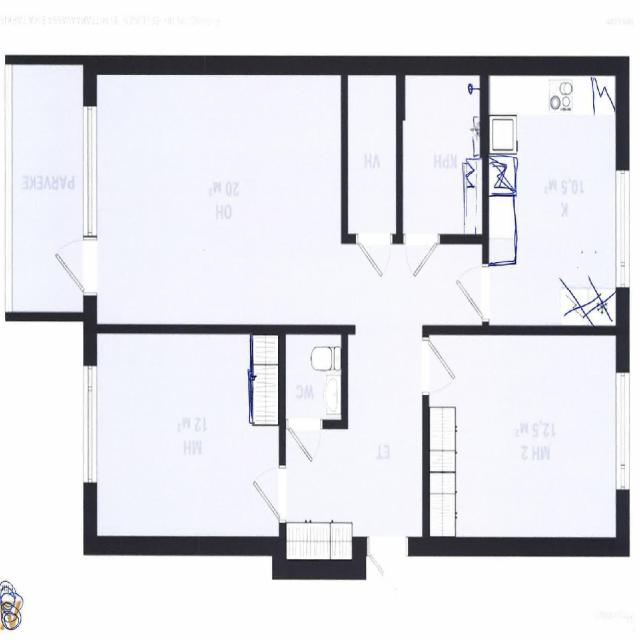door: (42, 238, 96, 295), (369, 538, 408, 612), (422, 340, 468, 395), (242, 468, 286, 521), (445, 266, 489, 318), (356, 234, 392, 293), (288, 420, 320, 475), (405, 234, 437, 289)
